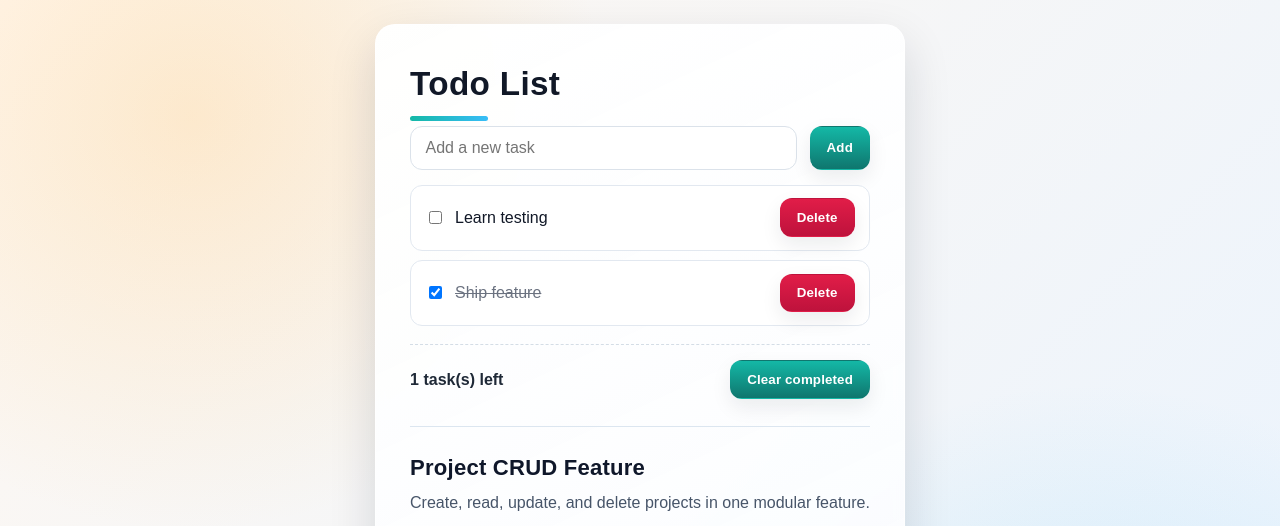
Test: App › validates required field
Expected: the text "Learn testing" is shown, [455, 206, 548, 230]
What coordinates should you click on to do the following:
click the button "Add"
I would click on:
 (840, 148)
Its box is [810, 126, 870, 170].
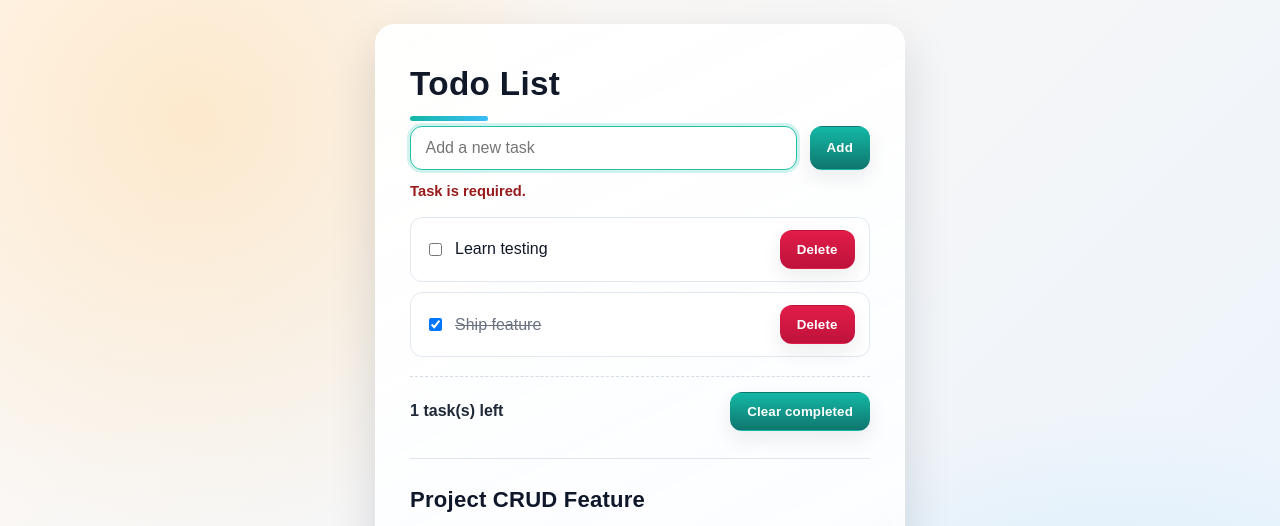
Expected: the text "Task is required." is shown, [410, 183, 526, 199]
